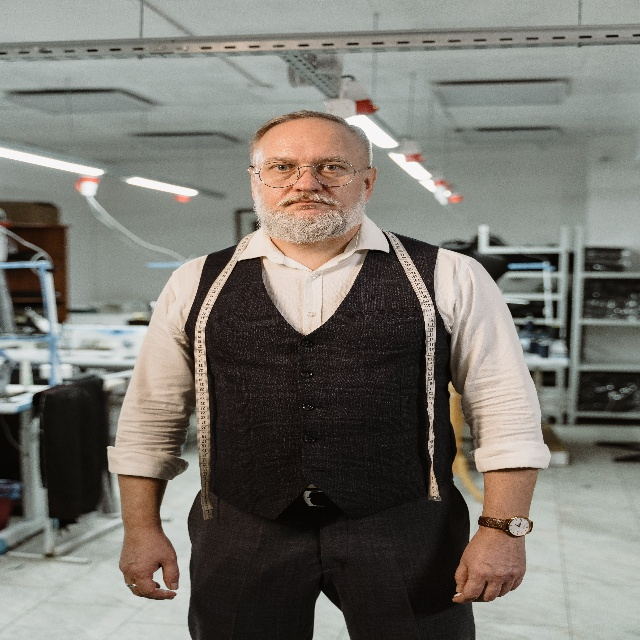Gafas: (258, 162, 357, 194)
Sin_guantes: (450, 523, 530, 603), (117, 528, 181, 598)
